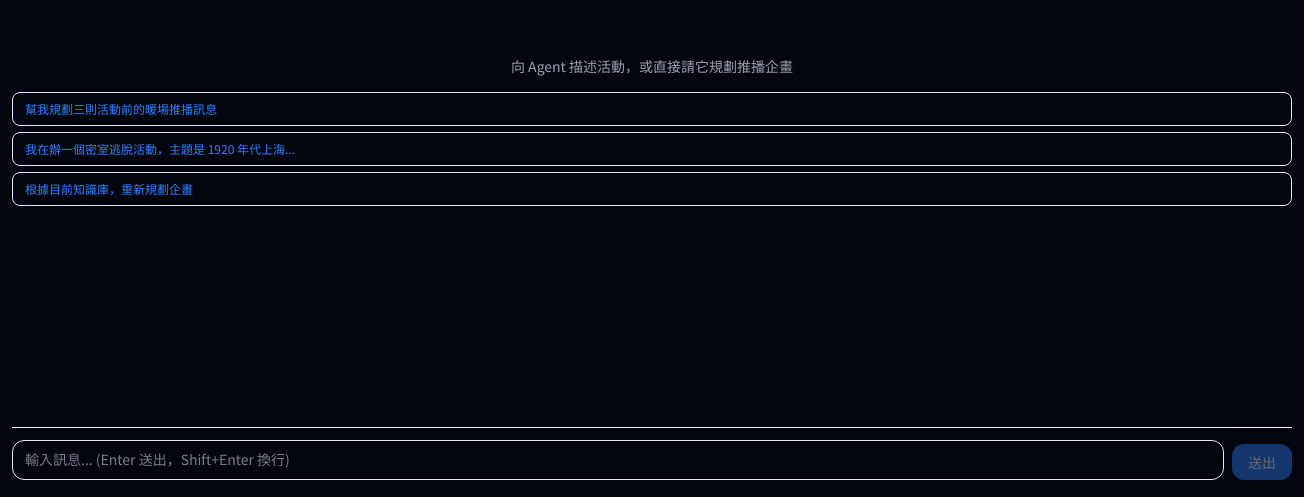
Scenario: AgentChatPanel — async queued + onSnapshot › shows loading indicator after queued response
Step 1. Type "規劃" into the text box with placeholder "輸入訊息... (Enter 送出，Shift+Enter 換行)" → (618, 460), box [12,440,1224,480]
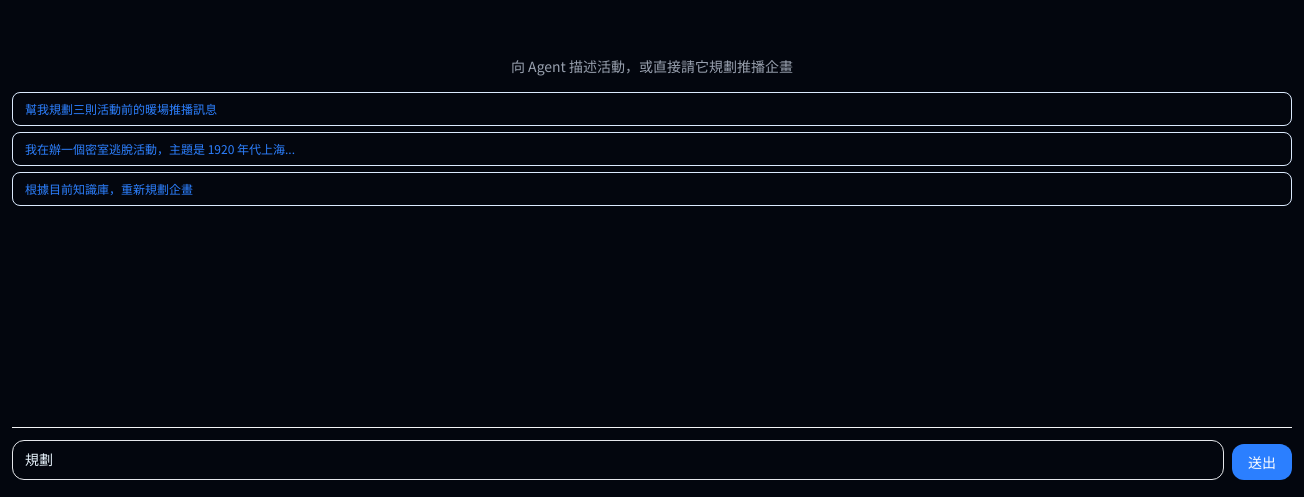
Step 2. Click the button "送出" → (1262, 462), box [1232,444,1292,480]
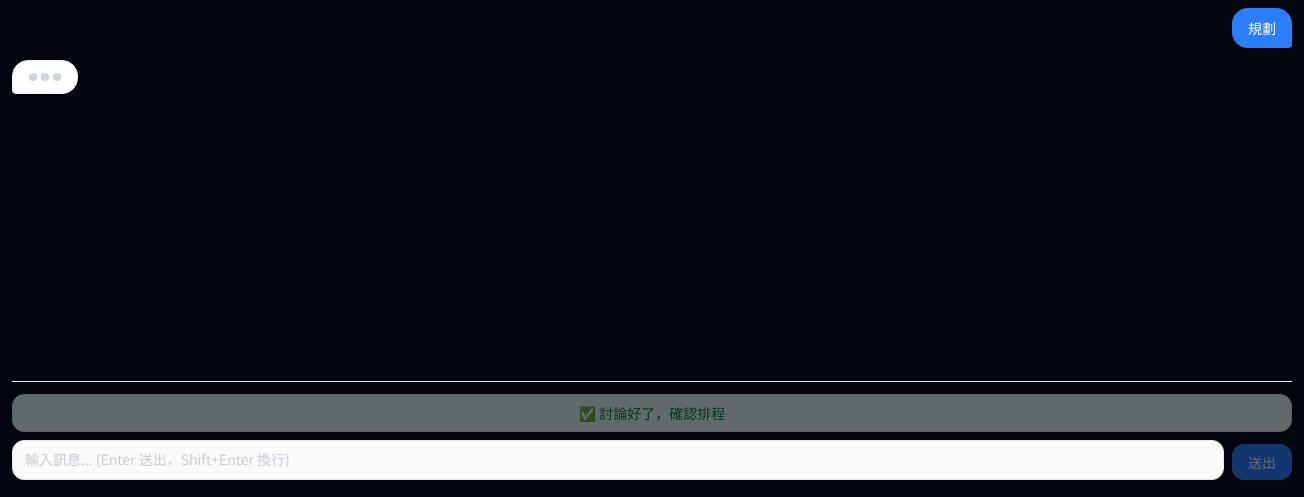
Expected: the text box with placeholder "輸入訊息... (Enter 送出，Shift+Enter 換行)" is disabled, [12,440,1224,480]
